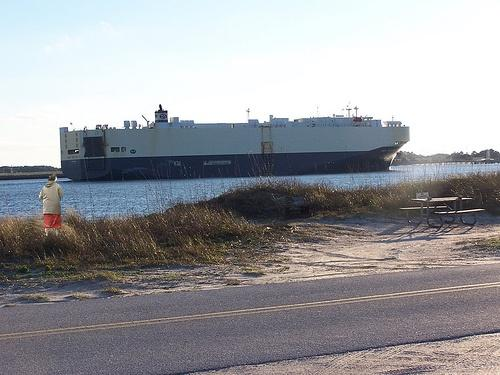tampered: (40, 174, 63, 236)
